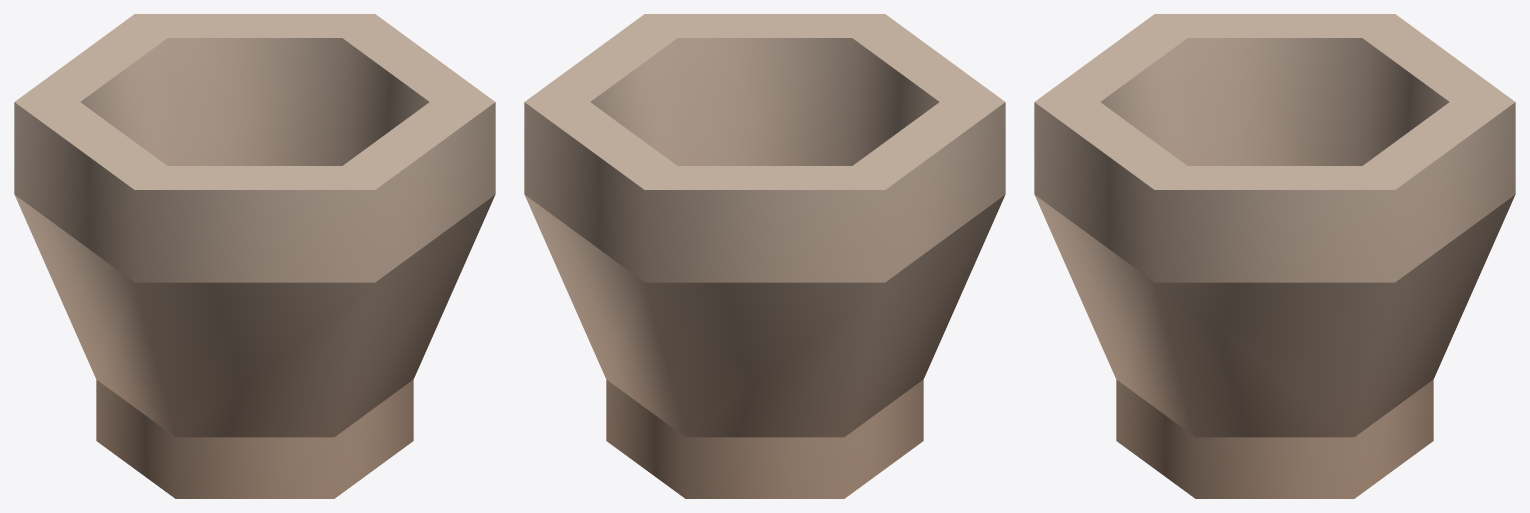
Rendered from ice-cream-cup.glb.
3 renders of one model, left to right at view 1: azimuth 30°, elevation 25°; view 2: azimuth 150°, elevation 25°; view 3: azimuth 270°, elevation 25°, orthographic.
Parts seen in each view (by area): view 1: ice-cream-cup; view 2: ice-cream-cup; view 3: ice-cream-cup.
Part boxes in pixels (x1,y1,x2,y2): ice-cream-cup: (14, 14, 495, 498); ice-cream-cup: (524, 14, 1005, 498); ice-cream-cup: (1034, 14, 1515, 498).
Size of the model in its own units: 0.2011 by 0.1804 by 0.2322.
